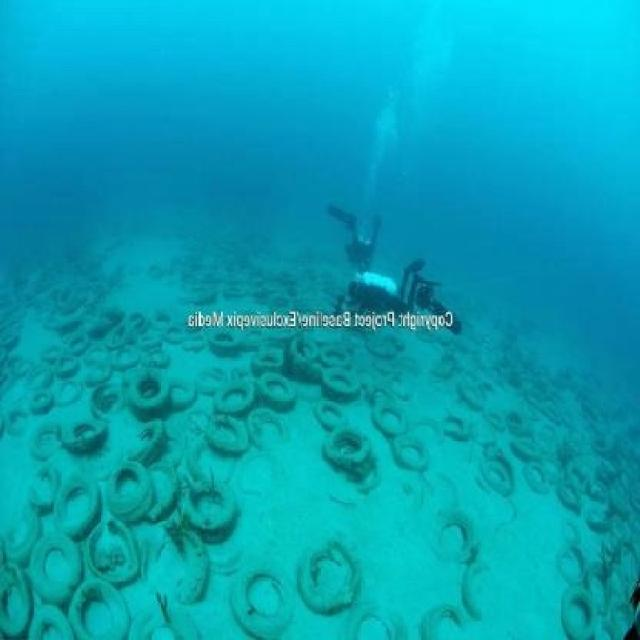tire: (142, 521, 205, 633), (293, 530, 361, 615), (225, 560, 297, 634), (26, 528, 94, 598), (66, 577, 132, 640), (44, 474, 102, 540), (421, 501, 479, 564), (182, 478, 245, 530), (124, 604, 213, 640), (101, 465, 156, 521), (326, 427, 377, 484), (4, 552, 34, 640), (416, 584, 463, 640), (342, 600, 406, 640), (455, 551, 493, 618), (248, 404, 302, 451), (204, 415, 258, 459), (20, 452, 60, 511), (125, 372, 177, 416), (553, 586, 596, 634), (27, 603, 75, 640), (383, 430, 428, 467), (4, 503, 36, 554), (195, 366, 240, 402), (217, 381, 257, 419), (372, 398, 414, 434), (162, 376, 202, 413), (320, 368, 368, 398), (555, 551, 582, 592), (258, 375, 299, 402), (482, 460, 512, 495), (98, 384, 128, 416), (318, 395, 342, 433), (523, 452, 548, 486), (444, 412, 468, 442)
